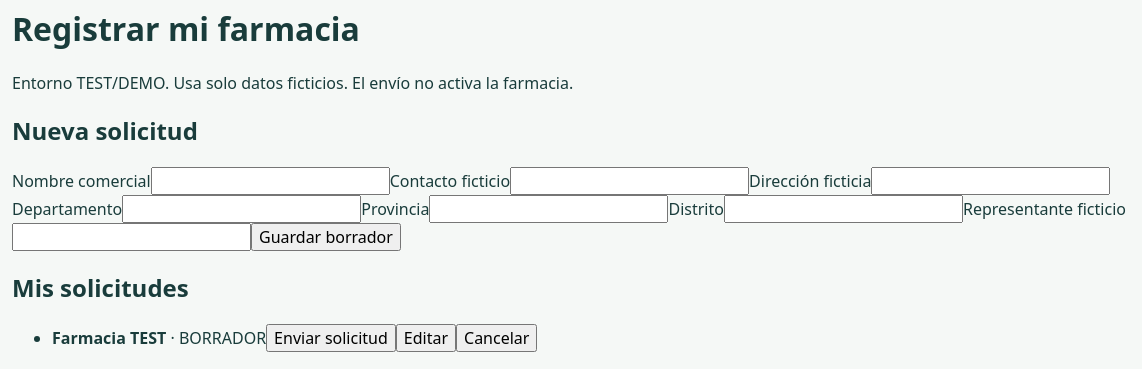
Test: F02.5 solicitud desde React › edita solo un borrador propio y envía su versión al backend
Later steps or results of the test are not shown.
Click the button "Editar" at (426,338), box [396,324,456,352]
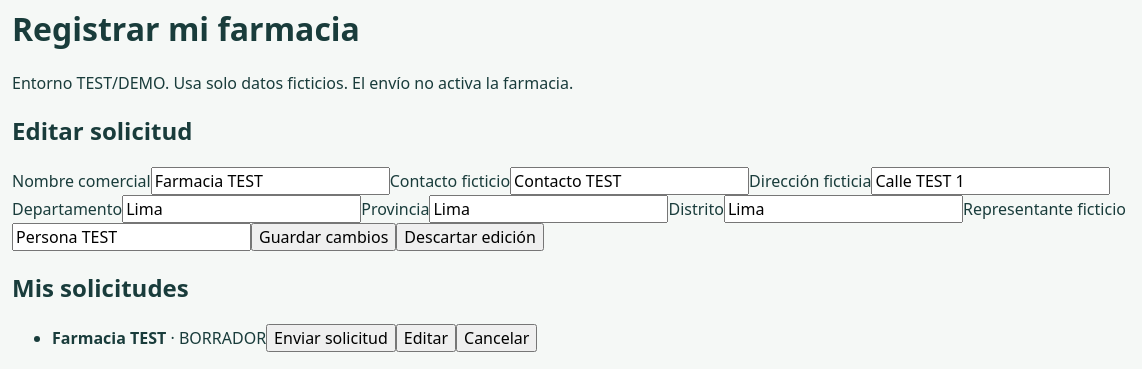
Check: the field showing "Farmacia TEST" is shown, box [151,167,390,195]
